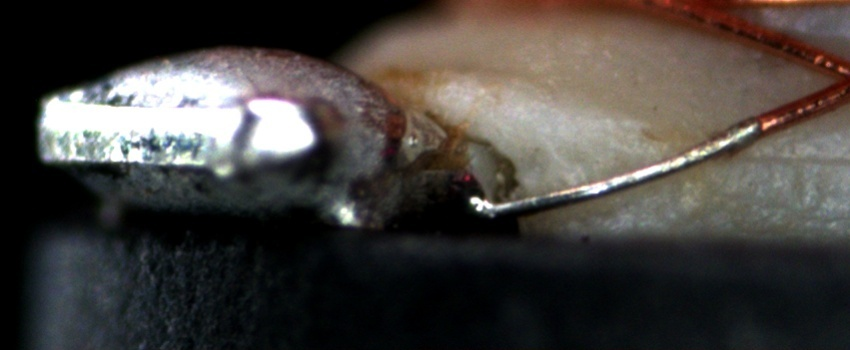CL: (806, 44, 850, 109)
DL: (734, 125, 849, 185)
TS: (467, 118, 764, 219)
